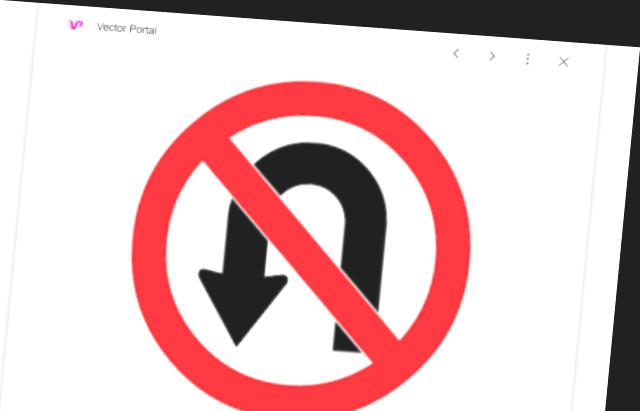not_u_turn_left: (114, 61, 493, 411)
